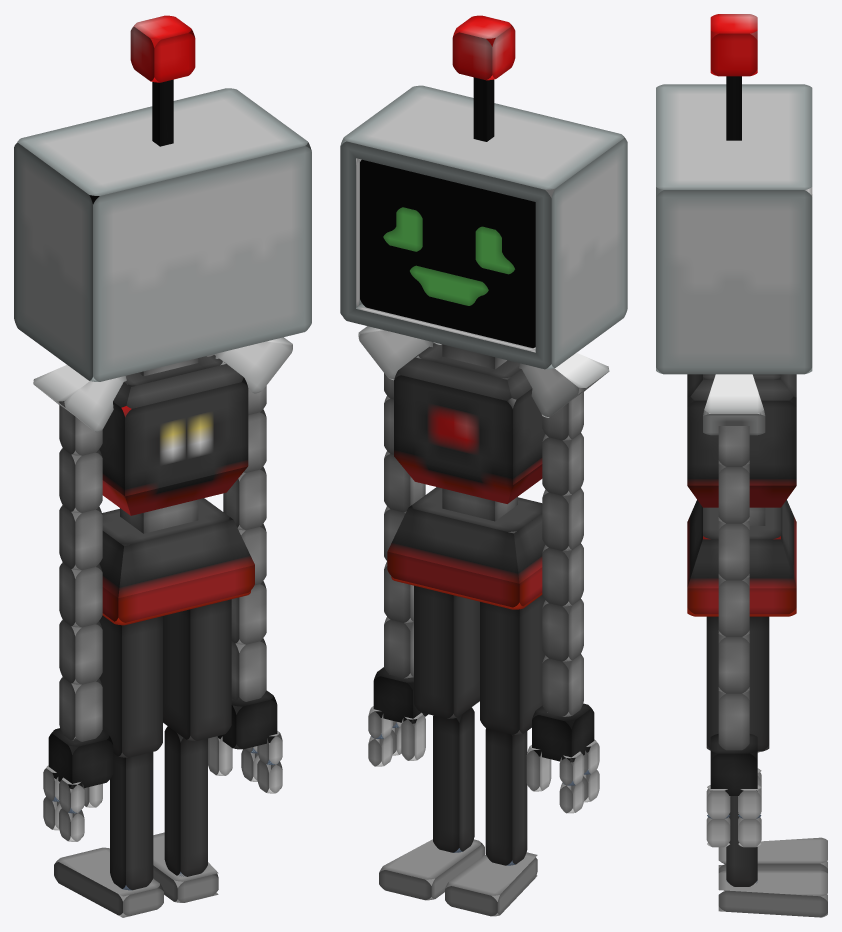
File: monitorhead.dae
The picture shows the model from 3 angles, left to right: view 1: azimuth 30°, elevation 25°; view 2: azimuth 150°, elevation 25°; view 3: azimuth 270°, elevation 25°; orthographic projection. The views are drawn at different scales.
Visible parts, largest first — view 1: head, torso (×3), leg1 (×3), leg2 (×3), cube (×8), arm2 (×5), shoulder (×2), wrist (×2), antenna, hand (×2); view 2: head, torso (×3), leg2 (×3), leg1 (×3), cube (×9), arm2 (×4), shoulder (×2), antenna, wrist (×2), eye1, hand (×3), mouth1; view 3: head, torso (×2), arm2 (×6), leg2 (×3), antenna, shoulder, cube (×4), leg1, wrist.
Part boxes in pixels (x1,y1,x2,y2): head: (14,88,311,381); torso (×3): (99,355,254,625); leg1 (×3): (54,615,163,917); leg2 (×3): (153,599,231,902); cube (×8): (59,401,282,793); arm2 (×5): (223,409,266,701); shoulder (×2): (33,337,292,432); wrist (×2): (48,690,277,788); antenna: (130,15,195,146); hand (×2): (59,777,84,841); head: (340,85,627,369); torso (×3): (387,343,545,609); leg2 (×3): (379,585,484,900); leg1 (×3): (445,595,545,916); cube (×9): (368,344,583,766); arm2 (×4): (384,451,425,678); shoulder (×2): (358,326,609,417); antenna: (452,15,515,141); wrist (×2): (373,667,594,762); eye1: (383,207,514,274); hand (×3): (526,745,584,813); mouth1: (410,265,488,305); head: (656,84,812,374); torso (×2): (687,374,796,616); arm2 (×6): (718,426,749,750); leg2 (×3): (706,616,827,917); antenna: (710,14,757,140); shoulder: (703,374,765,435); cube (×4): (706,785,761,847); leg1: (718,837,827,873); wrist: (710,734,757,795).
Size of the model in its own units: 1.08 by 3.81 by 0.6875.
Materials: 1 (1 with a texture image).
